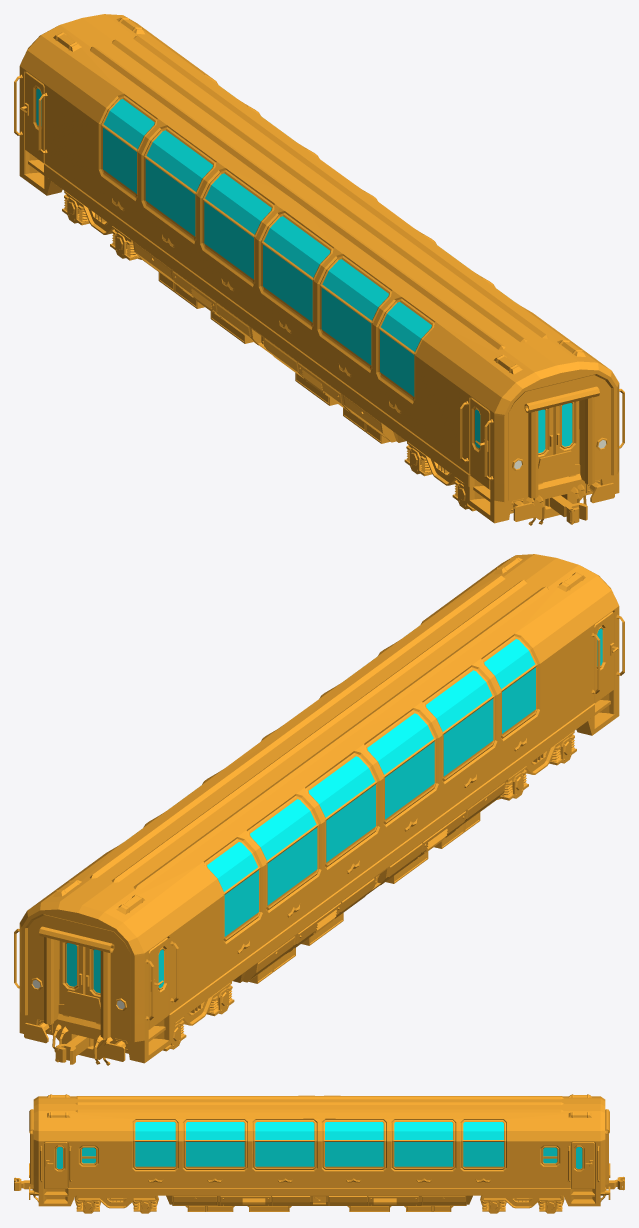
The model's file is SM_Train_Wagon_Polyexpress.fbx.
3 renders of one model, top to bottom at view 1: azimuth 30°, elevation 25°; view 2: azimuth 150°, elevation 25°; view 3: azimuth 270°, elevation 25°, orthographic. The views are drawn at different scales.
Parts seen in each view (by area): view 1: SM_Train_Wagon_Polyexpress_Base, SM_Train_Wagon_Polyexpress_Base_Chassis_B, SM_Train_Wagon_Polyexpress_Base_Chassis_F, SM_Train_Wagon_Polyexpress_Base_Joint_F; view 2: SM_Train_Wagon_Polyexpress_Base, SM_Train_Wagon_Polyexpress_Base_Chassis_F, SM_Train_Wagon_Polyexpress_Base_Chassis_B; view 3: SM_Train_Wagon_Polyexpress_Base, SM_Train_Wagon_Polyexpress_Base_Chassis_B, SM_Train_Wagon_Polyexpress_Base_Chassis_F, SM_Train_Wagon_Polyexpress_Base_Joint_F, SM_Train_Wagon_Polyexpress_Base_Joint_B.
Boxes of the visible parts, <box> form: SM_Train_Wagon_Polyexpress_Base: <box>14,14,624,525</box>; SM_Train_Wagon_Polyexpress_Base_Chassis_B: <box>62,191,139,260</box>; SM_Train_Wagon_Polyexpress_Base_Chassis_F: <box>404,442,476,511</box>; SM_Train_Wagon_Polyexpress_Base_Joint_F: <box>545,495,587,524</box>; SM_Train_Wagon_Polyexpress_Base: <box>14,554,624,1065</box>; SM_Train_Wagon_Polyexpress_Base_Chassis_F: <box>499,731,576,800</box>; SM_Train_Wagon_Polyexpress_Base_Chassis_B: <box>162,982,234,1051</box>; SM_Train_Wagon_Polyexpress_Base: <box>29,1094,610,1211</box>; SM_Train_Wagon_Polyexpress_Base_Chassis_B: <box>481,1195,562,1213</box>; SM_Train_Wagon_Polyexpress_Base_Chassis_F: <box>76,1195,157,1213</box>; SM_Train_Wagon_Polyexpress_Base_Joint_F: <box>14,1177,33,1190</box>; SM_Train_Wagon_Polyexpress_Base_Joint_B: <box>605,1176,624,1190</box>.
Size of the model in its own units: 3.37 by 3.91 by 21.47.
